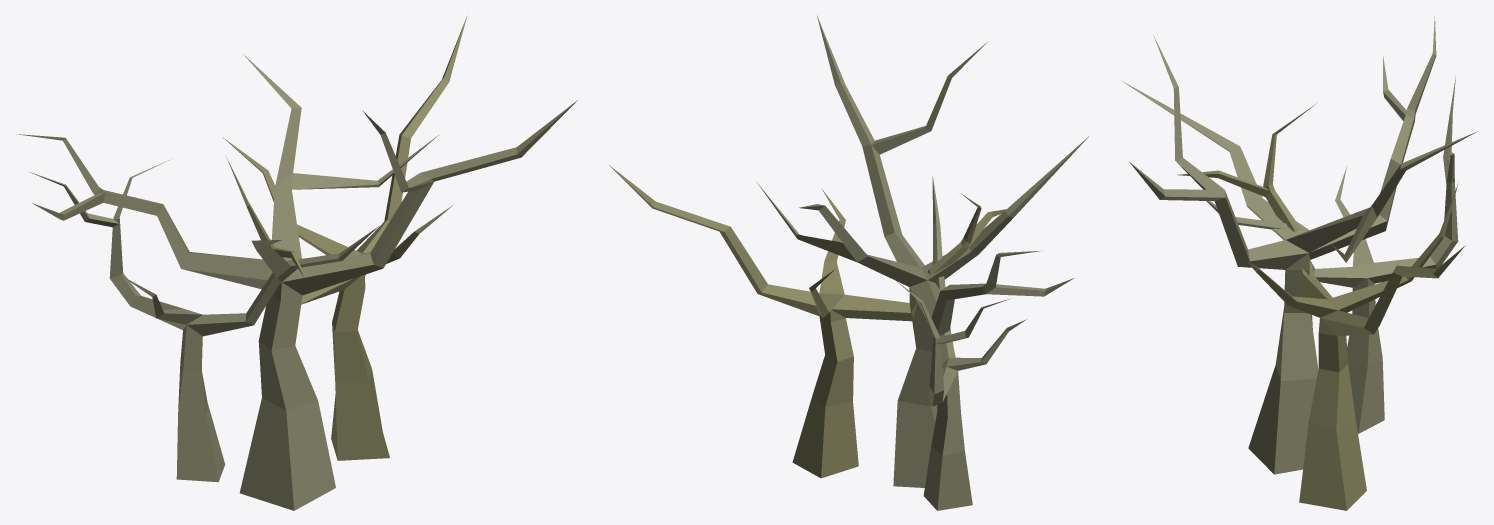
File: Dead_Trees.glb
The picture shows the model from 3 angles, left to right: view 1: azimuth 30°, elevation 25°; view 2: azimuth 150°, elevation 25°; view 3: azimuth 270°, elevation 25°; orthographic projection. The views are drawn at different scales.
Visible parts, largest first — view 1: Dead_Trees; view 2: Dead_Trees; view 3: Dead_Trees.
Part boxes in pixels (<box>): Dead_Trees: <box>16,16,577,510</box>; Dead_Trees: <box>608,16,1088,510</box>; Dead_Trees: <box>1120,15,1478,510</box>.
Size of the model in its own units: 5.85 by 5.03 by 3.88.
1 material, 1 textured.
